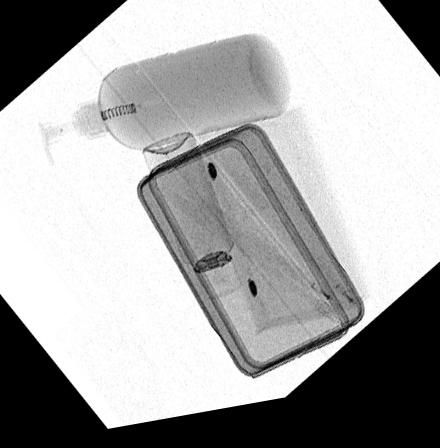Sprayer: (140, 137, 240, 306)
